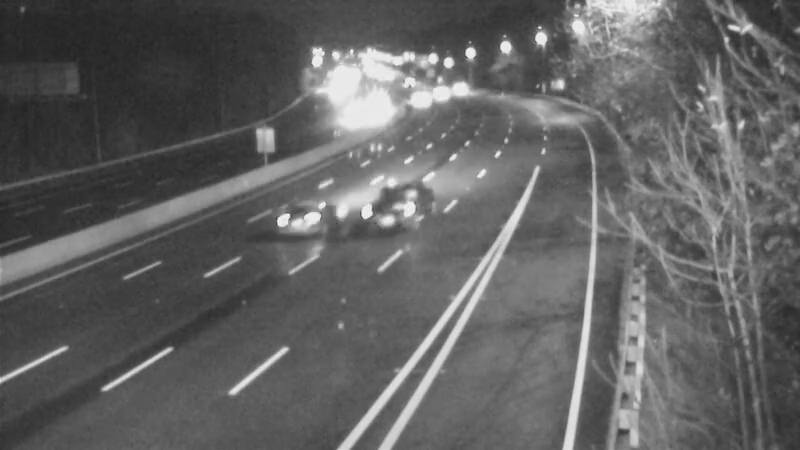vehicle: (351, 175, 431, 255), (269, 172, 349, 252), (438, 59, 488, 109), (416, 65, 466, 115), (404, 74, 454, 124)
